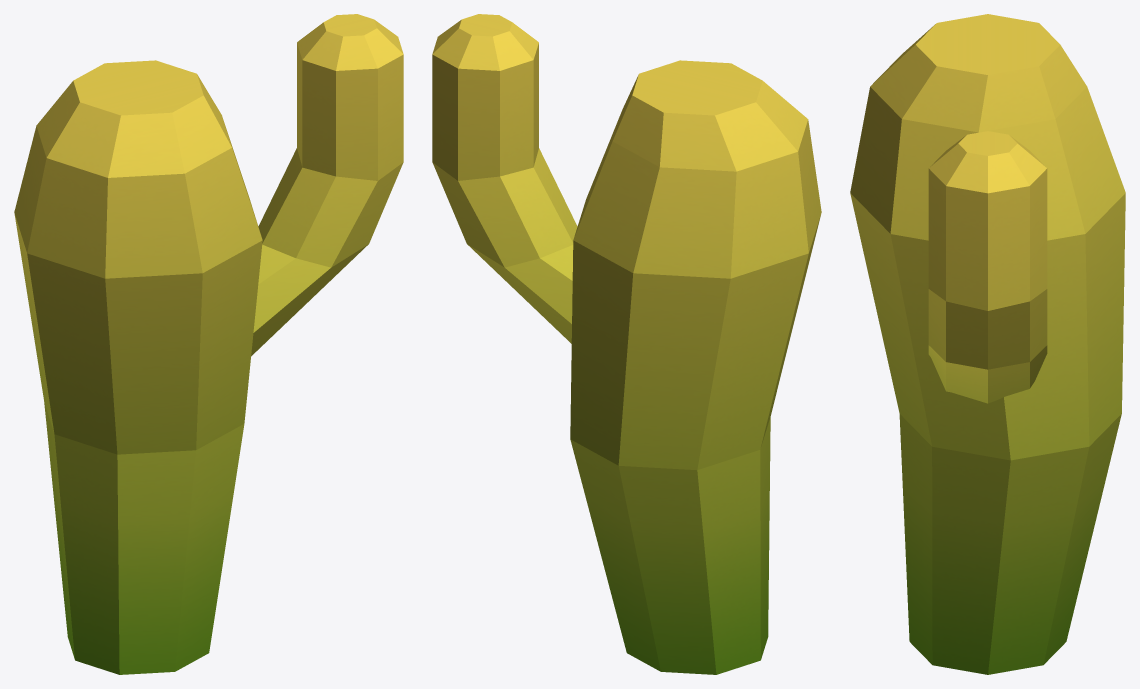
File: M_cactus_A.fbx
3 renders of one model, left to right at view 1: azimuth 30°, elevation 25°; view 2: azimuth 150°, elevation 25°; view 3: azimuth 270°, elevation 25°, orthographic. The views are drawn at different scales.
Parts seen in each view (by area): view 1: cactus_A; view 2: cactus_A; view 3: cactus_A.
Part boxes in pixels (box(x1,y1,x2,y2)): cactus_A: box(14, 14, 403, 674); cactus_A: box(432, 14, 821, 674); cactus_A: box(850, 14, 1125, 674).
Bounding box in the file's own units: 197 × 288 × 118.
